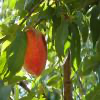Peach leaf: (2, 30, 27, 82), (74, 53, 99, 99), (52, 18, 70, 65), (70, 22, 81, 80), (76, 10, 90, 45), (89, 6, 100, 49), (38, 6, 57, 21)
